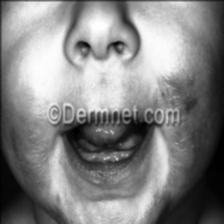Non-Cancerous Skin Condition: (16, 134, 73, 196), (150, 65, 210, 113), (167, 135, 212, 185), (84, 200, 149, 224)
